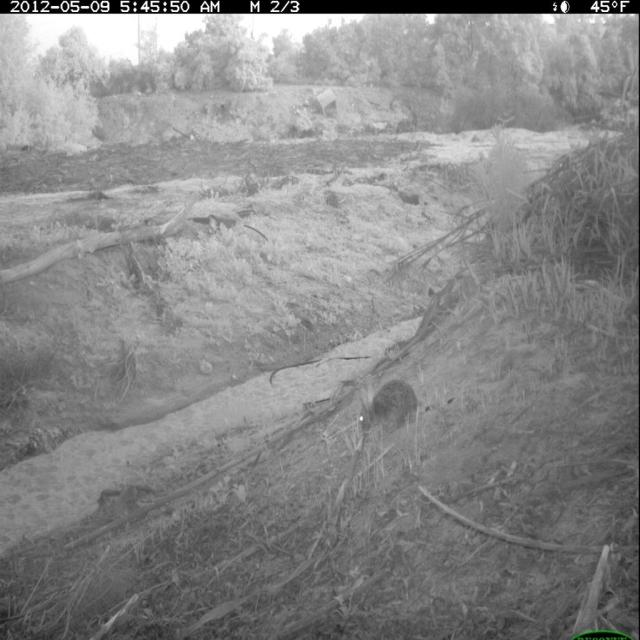rabbit: (359, 379, 426, 446)
